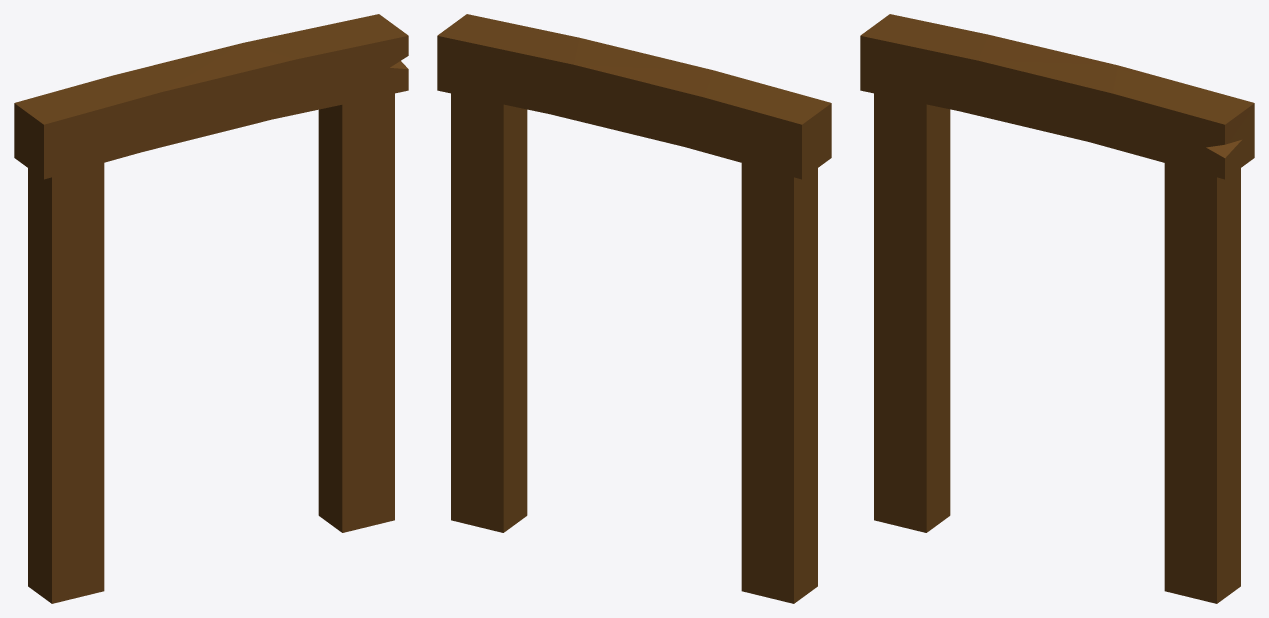
Rendered from Door2_01.fbx.
3 views of the same model, side by side, from view 1: azimuth 30°, elevation 25°; view 2: azimuth 150°, elevation 25°; view 3: azimuth 330°, elevation 25° (orthographic).
Visible parts, largest first — view 1: Door2_01; view 2: Door2_01; view 3: Door2_01.
Part boxes in pixels (left/top/right/bottom): Door2_01: left=14, top=14, right=408, bottom=603; Door2_01: left=437, top=14, right=831, bottom=603; Door2_01: left=860, top=14, right=1254, bottom=603.
Size of the model in its own units: 168 by 215 by 23.76.
